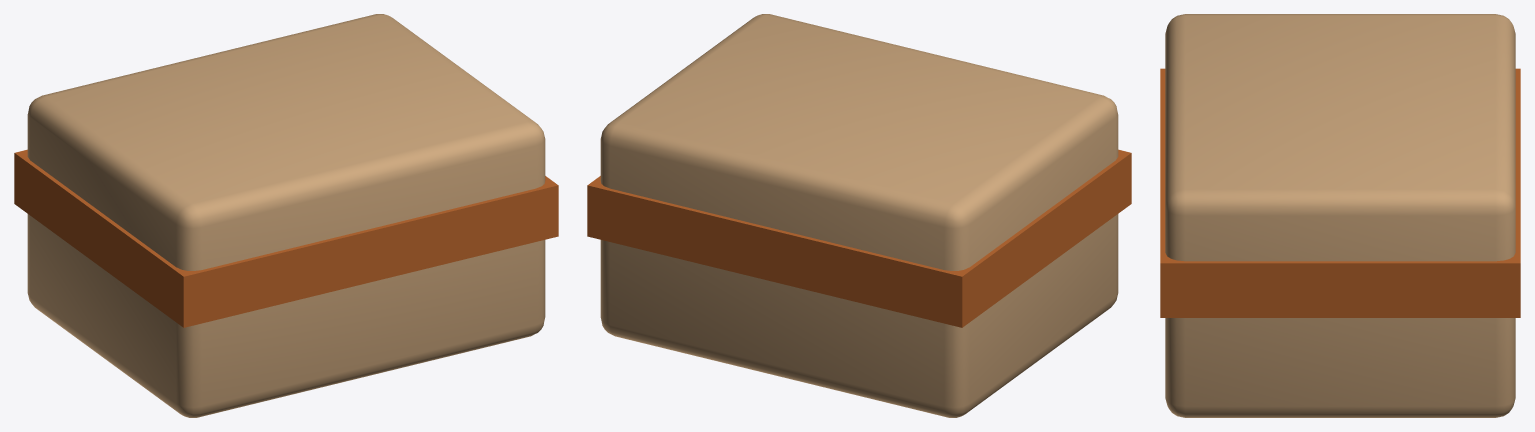
Rendered from caja_de_insumos.fbx.
The picture shows the model from 3 angles, left to right: view 1: azimuth 30°, elevation 25°; view 2: azimuth 150°, elevation 25°; view 3: azimuth 270°, elevation 25°; orthographic projection. The views are drawn at different scales.
Parts seen in each view (by area): view 1: supplyBox, supplyTape_B8642A; view 2: supplyBox, supplyTape_B8642A; view 3: supplyBox, supplyTape_B8642A.
Part boxes in pixels (x1=…): supplyBox: x1=27, y1=14, x2=545, y2=417; supplyTape_B8642A: x1=14, y1=149, x2=558, y2=327; supplyBox: x1=600, y1=14, x2=1118, y2=417; supplyTape_B8642A: x1=587, y1=149, x2=1131, y2=327; supplyBox: x1=1165, y1=14, x2=1515, y2=417; supplyTape_B8642A: x1=1160, y1=68, x2=1520, y2=317.
Bounding box in the file's own units: 0.92 × 0.5 × 0.72.
